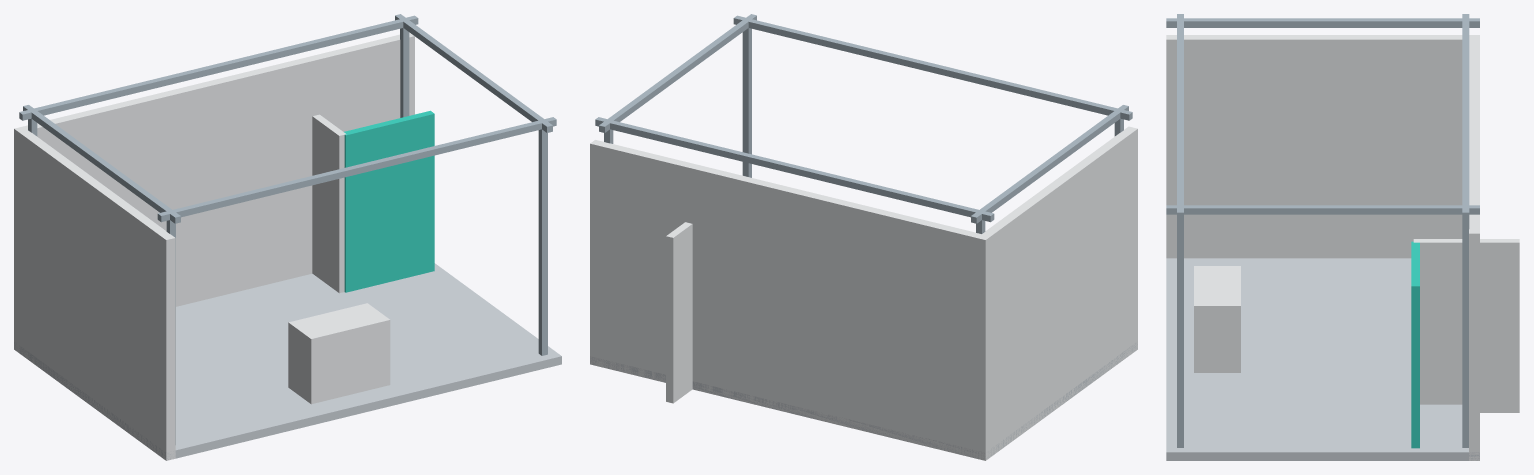
3 renders of one model, left to right at view 1: azimuth 30°, elevation 25°; view 2: azimuth 150°, elevation 25°; view 3: azimuth 270°, elevation 25°, orthographic. The views are drawn at different scales.
Visible parts, largest first — view 1: Exhibition Booth Concept; view 2: Exhibition Booth Concept; view 3: Exhibition Booth Concept.
Part boxes in pixels (x1,y1,x2,y2): Exhibition Booth Concept: (14, 14, 561, 460); Exhibition Booth Concept: (590, 14, 1137, 460); Exhibition Booth Concept: (1166, 14, 1519, 460).
Size of the model in its own units: 6 by 3.49 by 4.51.
